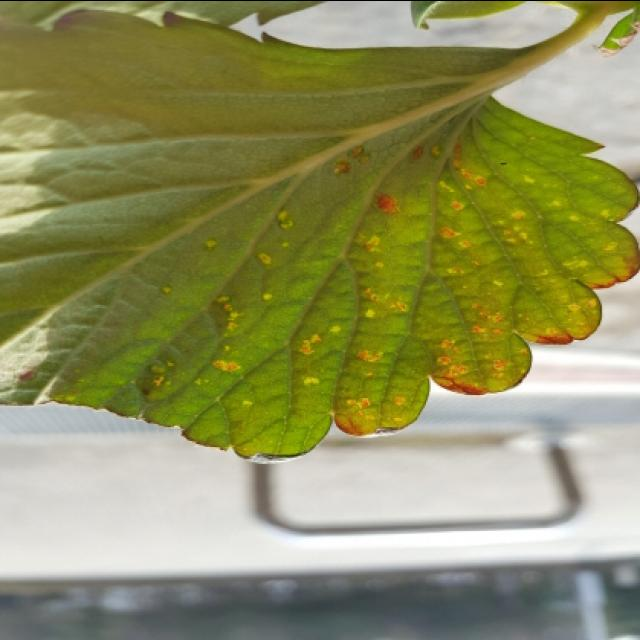Angular Leafspot: (42, 112, 638, 459)
